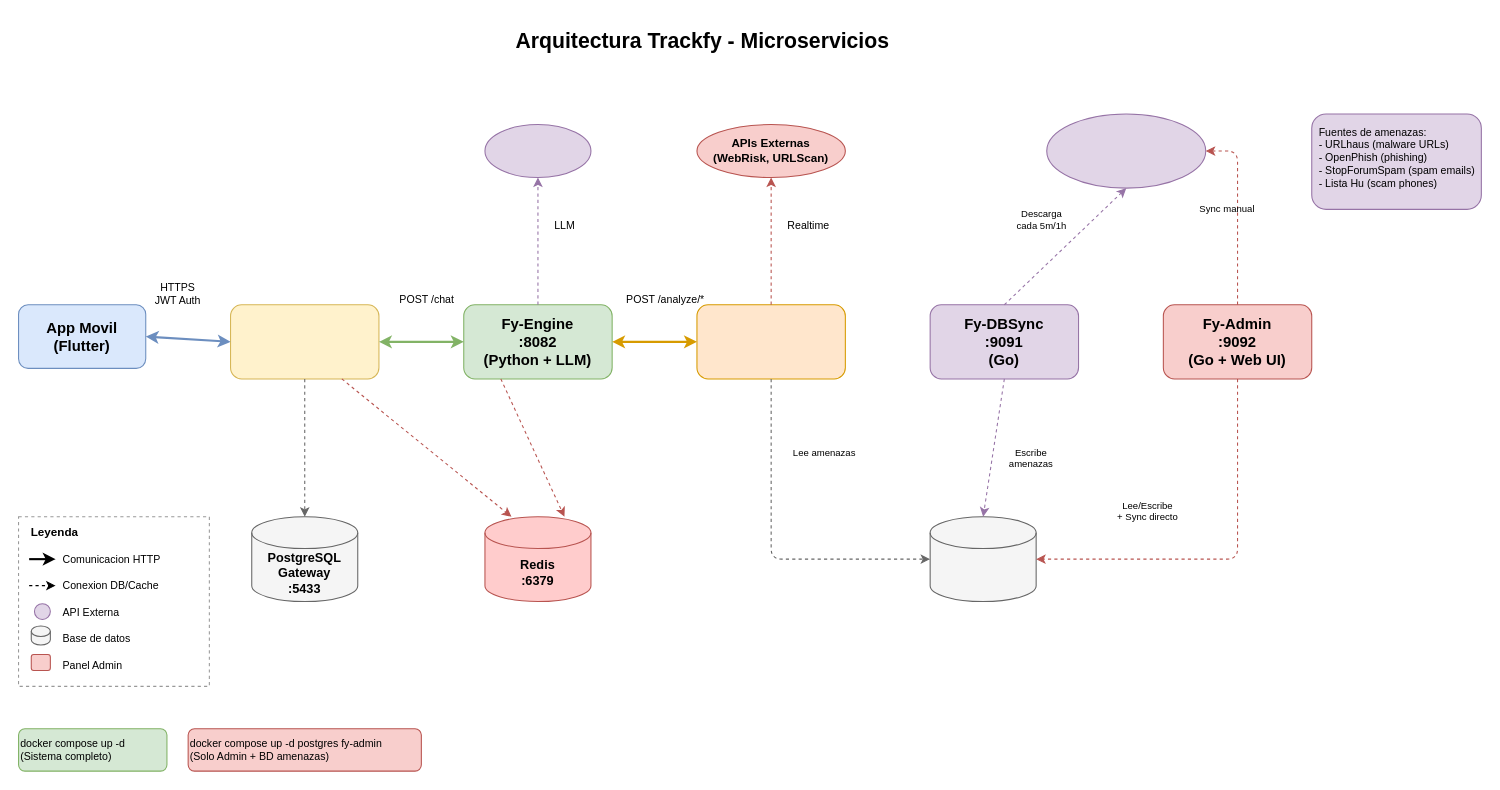
This 1500x790 diagram has some shape labels left out. Each missing label, with the centre of its shape:
"API Gateway :8080 (Go + Fiber)" belongs at pixel 304 341.
"Fuentes Datos (URLhaus, OpenPhish, StopForumSpam, Lista Hu)" belongs at pixel 1126 150.
"Fy-Analysis :9090 (Go)" belongs at pixel 770 341.
"OpenAI API" belongs at pixel 537 150.
"PostgreSQL Threats :5432" belongs at pixel 982 559.
